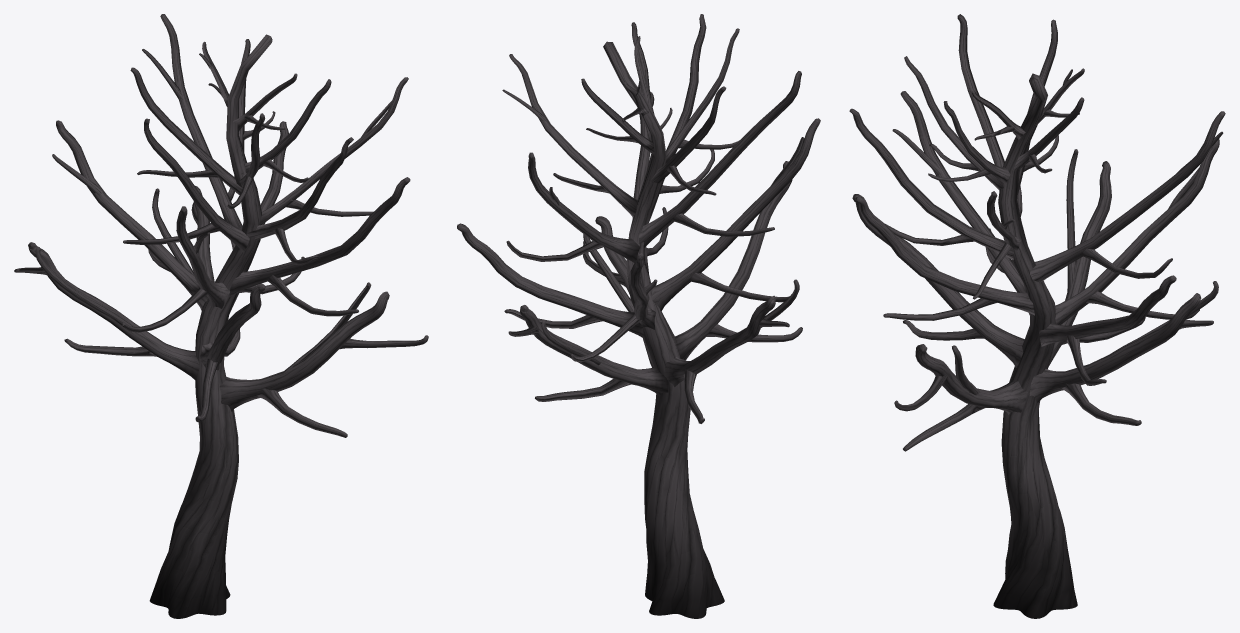
Rendered from DeadTree_1.gltf.
3 views of the same model, side by side, from view 1: azimuth 30°, elevation 25°; view 2: azimuth 150°, elevation 25°; view 3: azimuth 270°, elevation 25° (orthographic). The views are drawn at different scales.
Parts seen in each view (by area): view 1: DeadTree_1; view 2: DeadTree_1; view 3: DeadTree_1.
Boxes of the visible parts, x1,y1,x2,y2 form: DeadTree_1: (14, 14, 428, 618); DeadTree_1: (457, 14, 820, 618); DeadTree_1: (849, 14, 1225, 618).
Size of the model in its own units: 6.15 by 9.5 by 5.75.
1 material, 1 textured.
